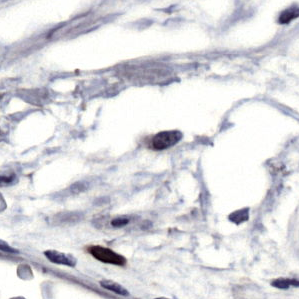Lymphocyte: (87, 243, 130, 266)
